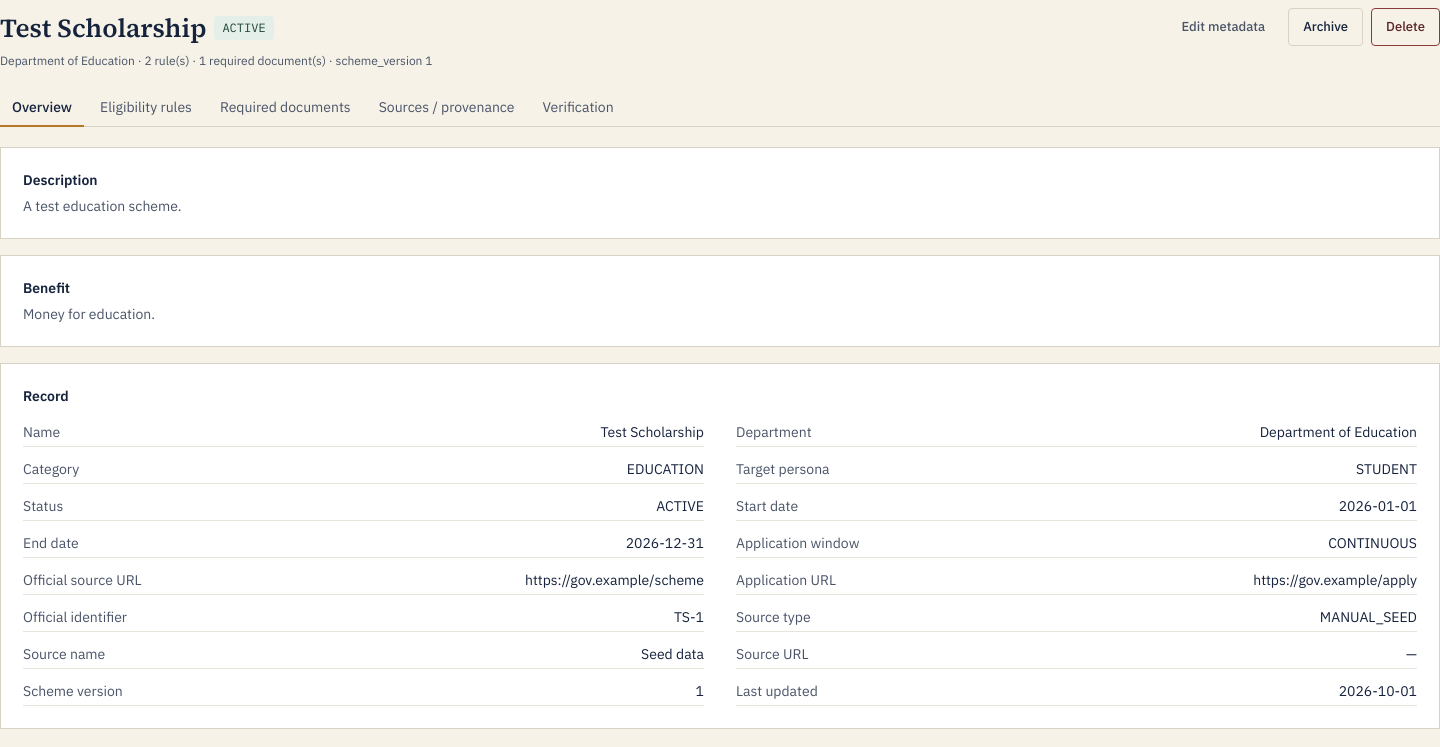
Test: rules tab › edits rule fields with the server as authority on rejection
Expected: the heading "Test Scholarship" is shown, 0,8 -> 206,49
Click the button "Eligibility rules".
click(146, 108)  # box 88,89 -> 204,127
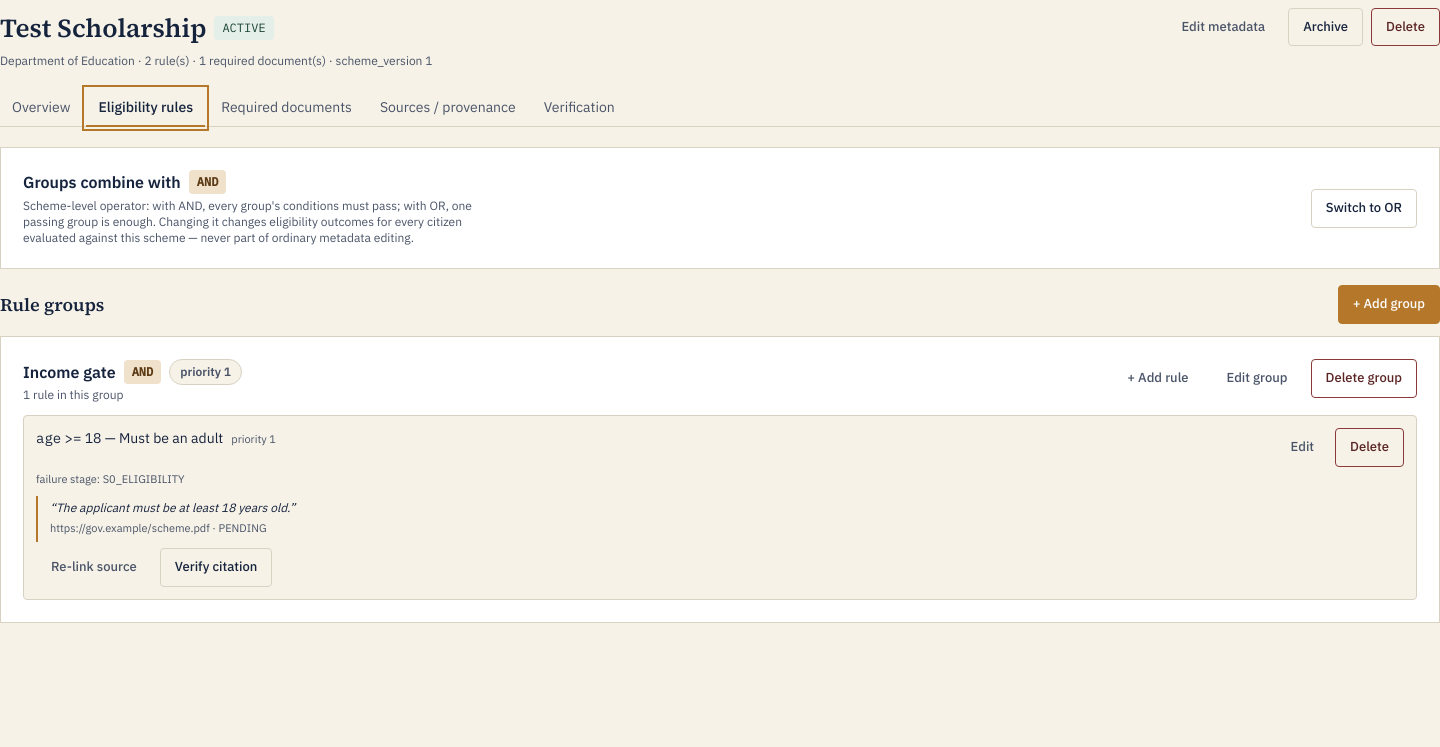
Expected: the heading "Income gate AND priority 1" is shown, 23,359 -> 242,385
Click the button "Edit".
click(1302, 447)  # box 1276,428 -> 1329,467
(page scrolled)
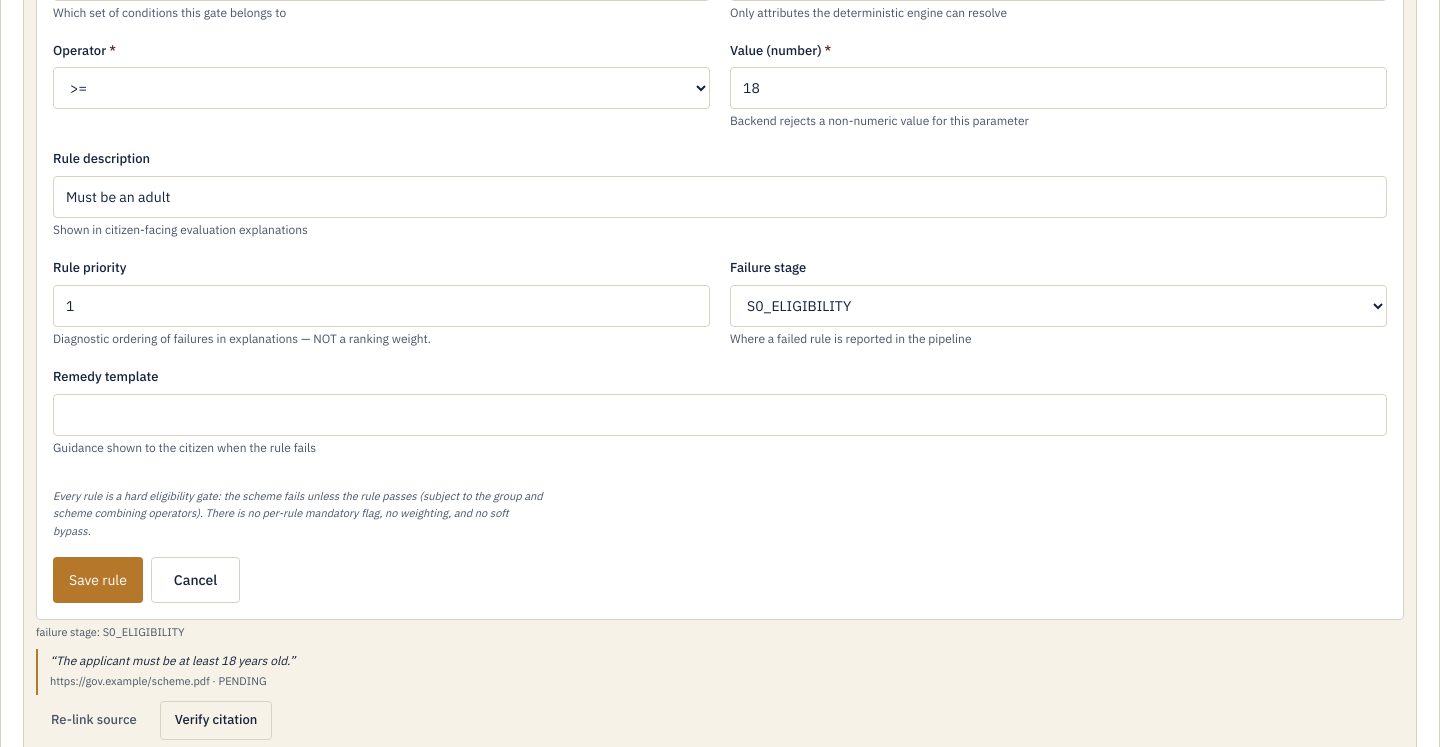
Click the button "Save rule".
click(98, 580)  # box 53,556 -> 143,602
(page scrolled)
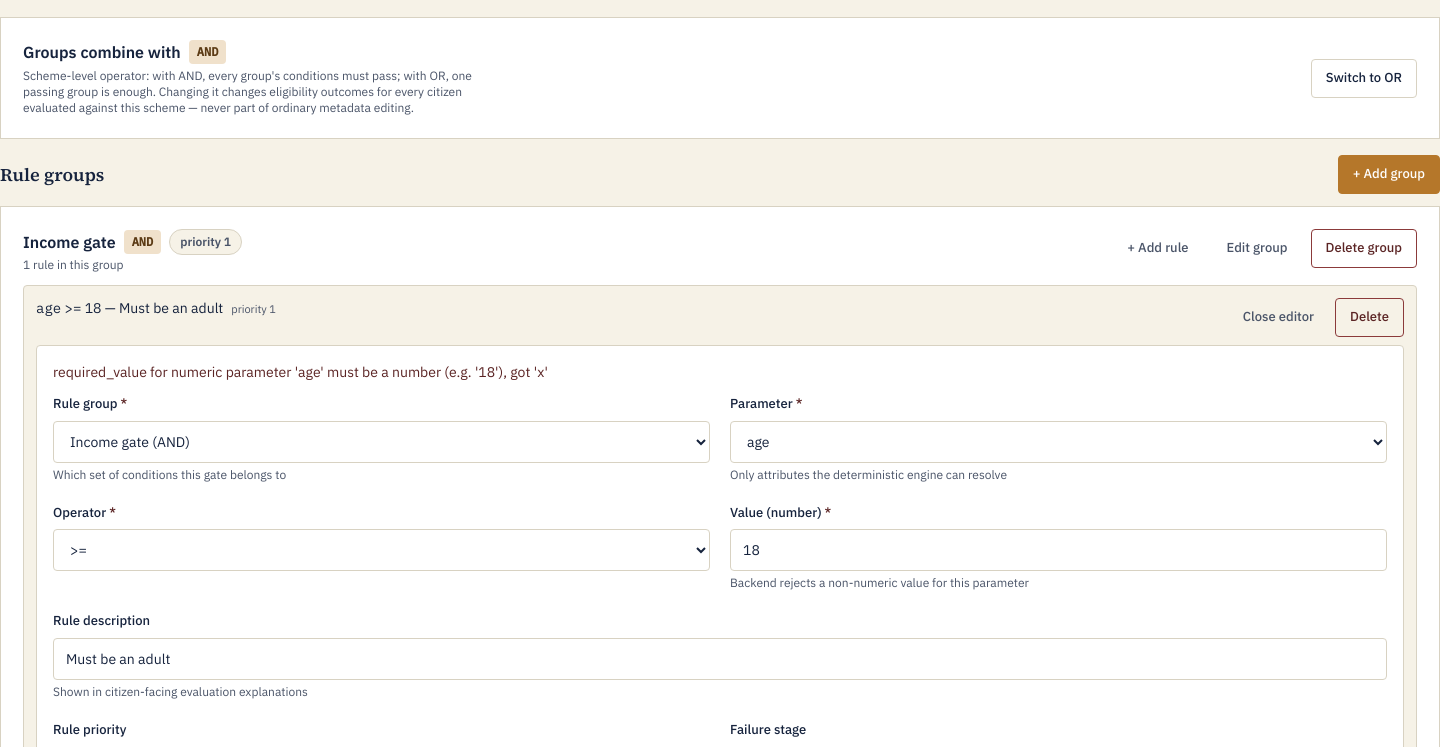
Expected: the text "must be a number" is shown, 53,363 -> 548,381
